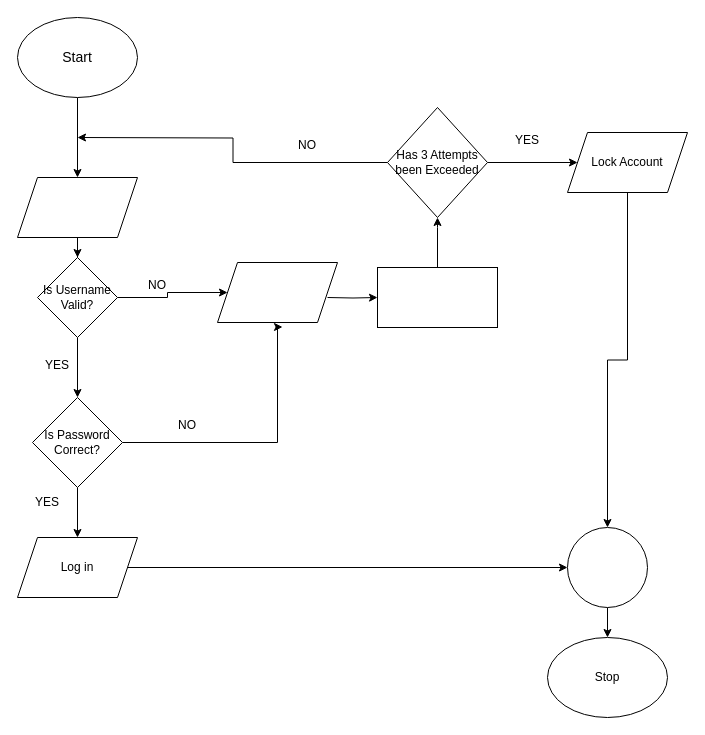
This 705x735 diagram has some shape labels left out. The shapes that lost their labels are listed below. From the top down, each one's box as (x1, y1, x2, y2) in pixels, then its label:
(16, 176, 138, 238): Enter Username And Password
(216, 262, 338, 322): Show Error Message
(376, 266, 498, 328): Increment Attempts
